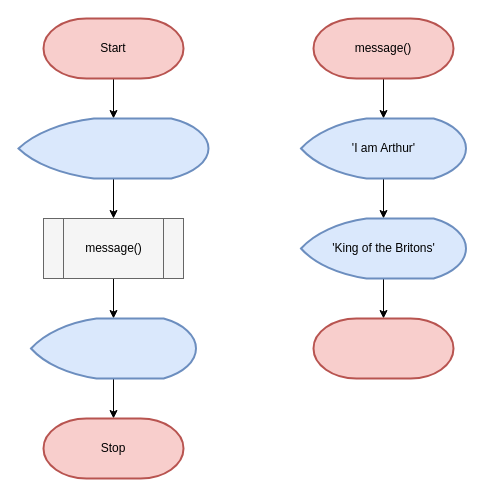
This 484x496 diagram has some shape labels left out. Each missing label, with the box of its shape:
'Goodbye!': (30, 317, 196, 379)
'I have a message for you': (17, 117, 209, 179)
Reture: (312, 317, 454, 379)
